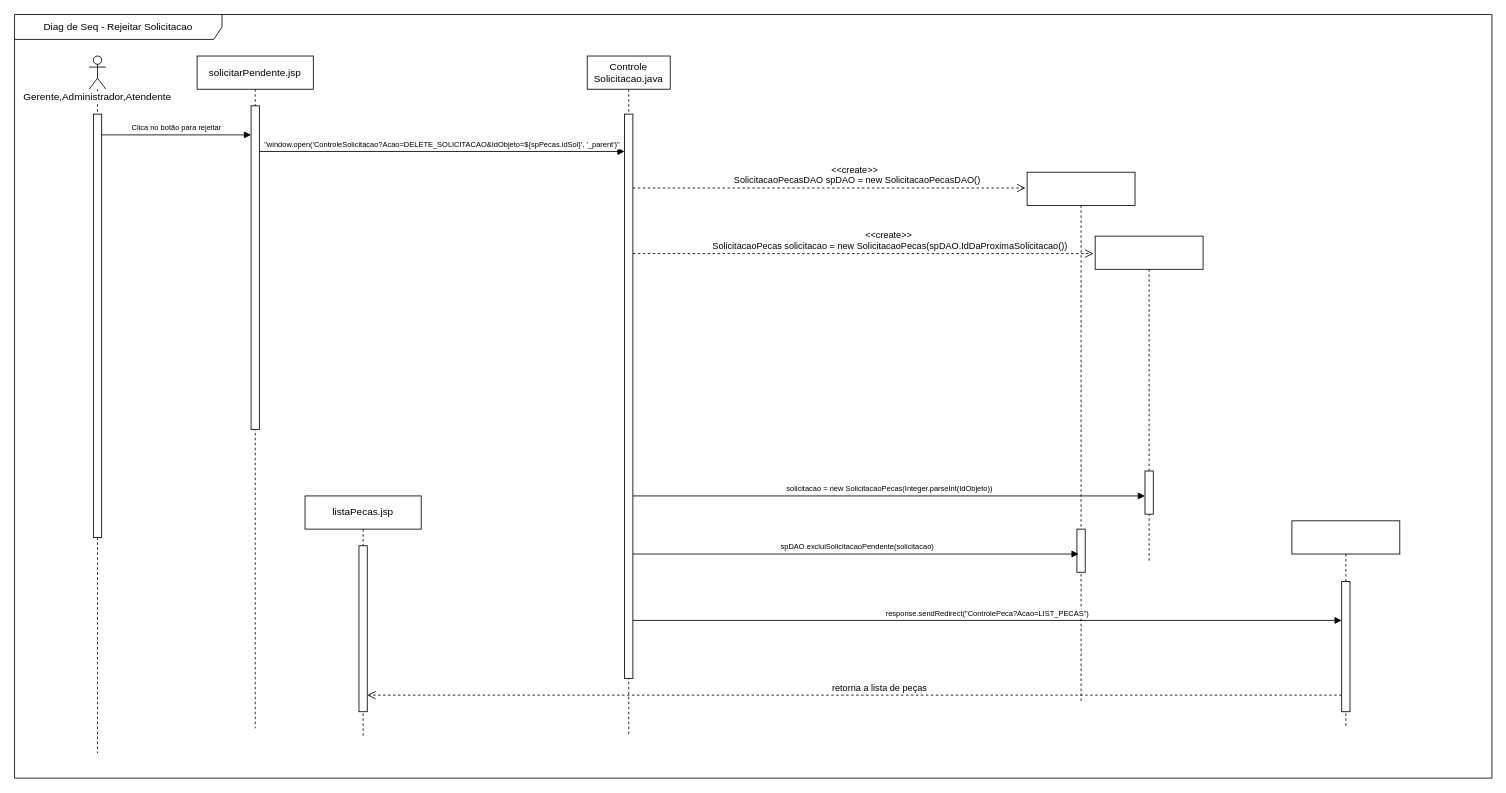
The diagram is 1506 pixels wide and 793 high, and some of its shapes have lost their labels. Each missing label, with the box of its shape:
ControlePeca .java: (1291, 520, 1400, 728)
SolicitacaoPecas .java: (1094, 235, 1203, 561)
SolicitacaoPecasDAO .java: (1026, 171, 1135, 703)
